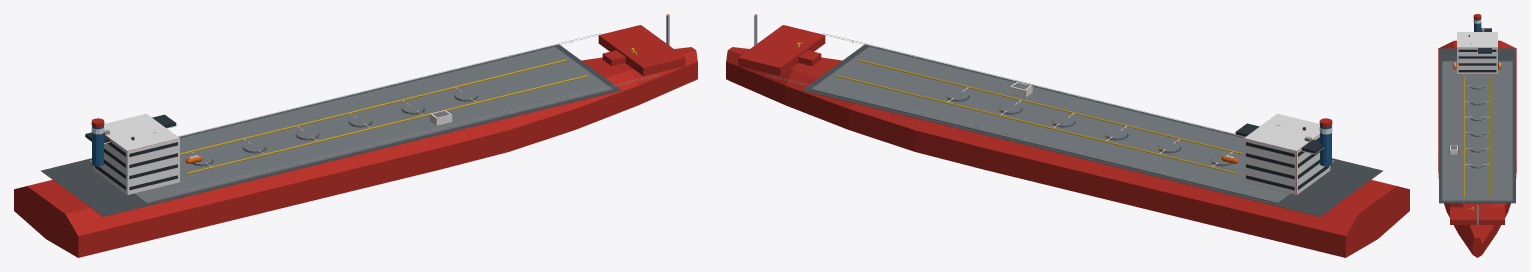
Rendered from off_shuttle_tanker.glb.
3 renders of one model, left to right at view 1: azimuth 30°, elevation 25°; view 2: azimuth 150°, elevation 25°; view 3: azimuth 270°, elevation 25°, orthographic. The views are drawn at different scales.
Parts seen in each view (by area): view 1: off_shuttle_tanker; view 2: off_shuttle_tanker; view 3: off_shuttle_tanker.
Part boxes in pixels (x1,y1,x2,y2): off_shuttle_tanker: (14, 14, 697, 257); off_shuttle_tanker: (726, 14, 1409, 257); off_shuttle_tanker: (1438, 14, 1516, 257).
Size of the model in its own units: 245 by 38.16 by 42.
